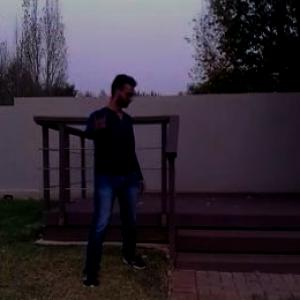takeoff-hand: (88, 98, 115, 133)
